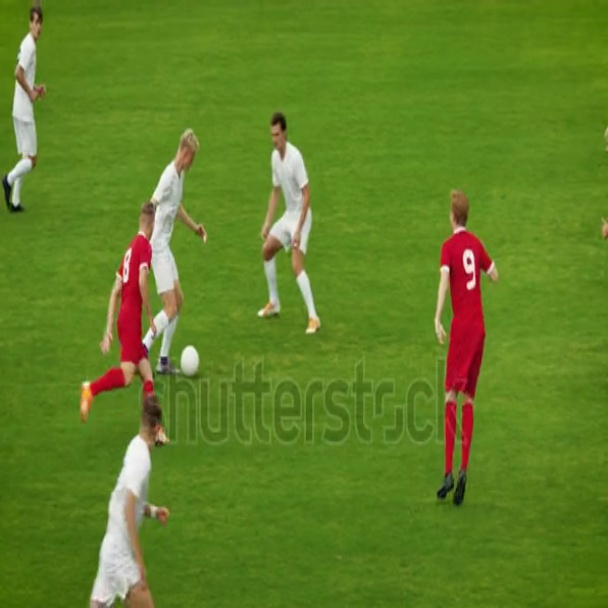ball: (175, 340, 205, 386)
